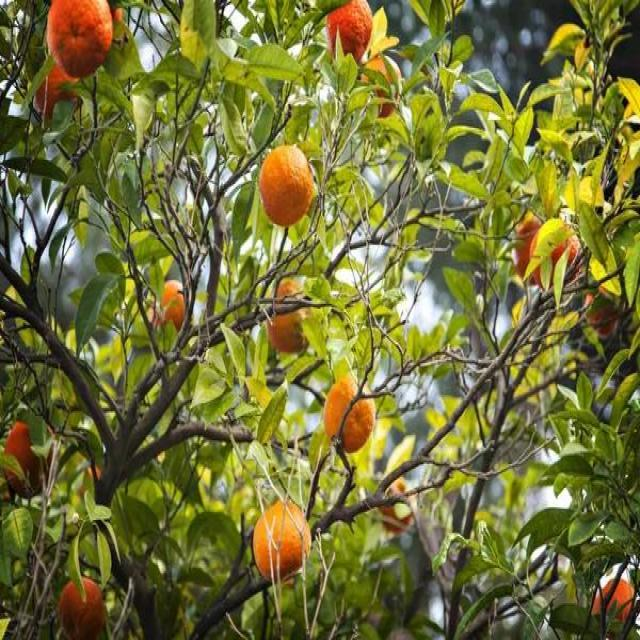Jeruk Sudah Matang: (252, 499, 314, 581), (3, 411, 59, 501), (47, 0, 114, 75), (259, 141, 314, 224), (532, 216, 584, 291), (266, 276, 314, 354), (326, 378, 376, 452), (328, 0, 374, 69), (58, 574, 106, 640), (596, 570, 637, 638), (152, 278, 196, 339), (516, 216, 545, 285)
